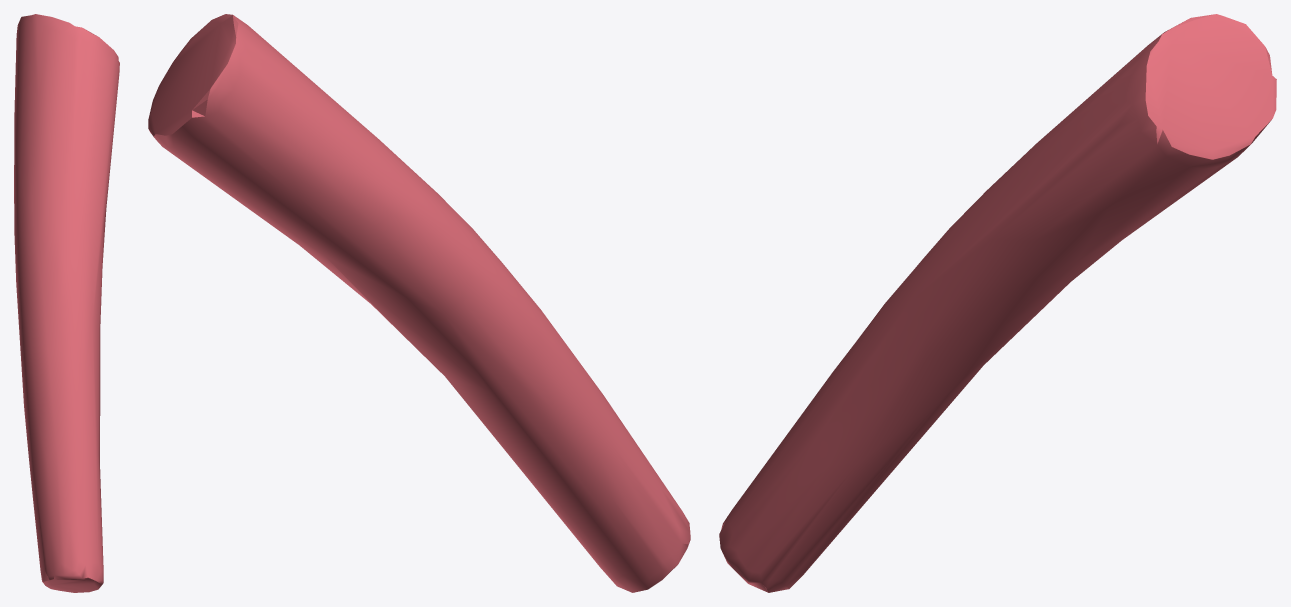
File: fma8620_fj6051.glb
3 renders of one model, left to right at view 1: azimuth 30°, elevation 25°; view 2: azimuth 150°, elevation 25°; view 3: azimuth 270°, elevation 25°, orthographic. The views are drawn at different scales.
Parts seen in each view (by area): view 1: FMA8620_FJ6051; view 2: FMA8620_FJ6051; view 3: FMA8620_FJ6051.
Boxes of the visible parts, x1,y1,x2,y2 form: FMA8620_FJ6051: (14,14,119,592); FMA8620_FJ6051: (148,14,690,592); FMA8620_FJ6051: (719,14,1276,592).
Size of the model in its own units: 0.007 by 0.0143 by 0.011.
